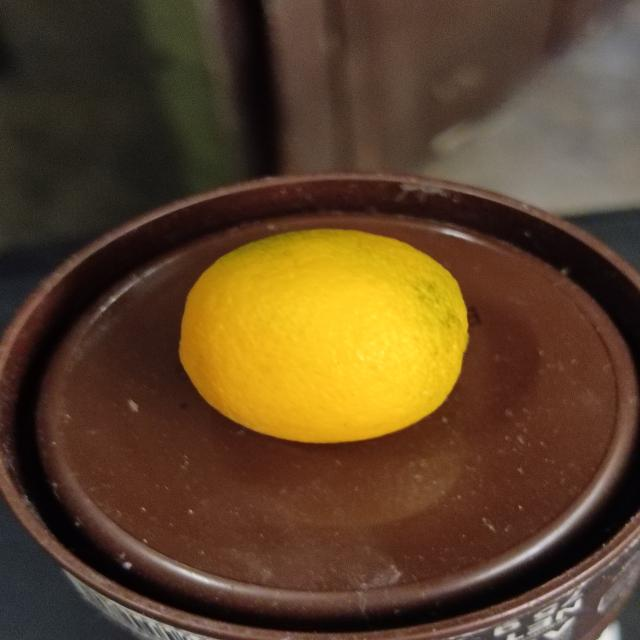greening: (172, 230, 473, 453)
